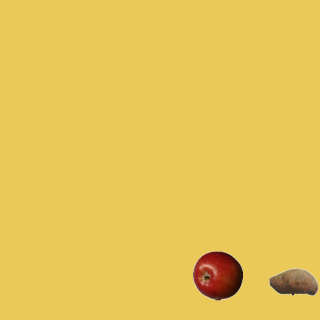Apple Braeburn: (192, 250, 242, 300)
Potato Sweet: (268, 256, 318, 306)
